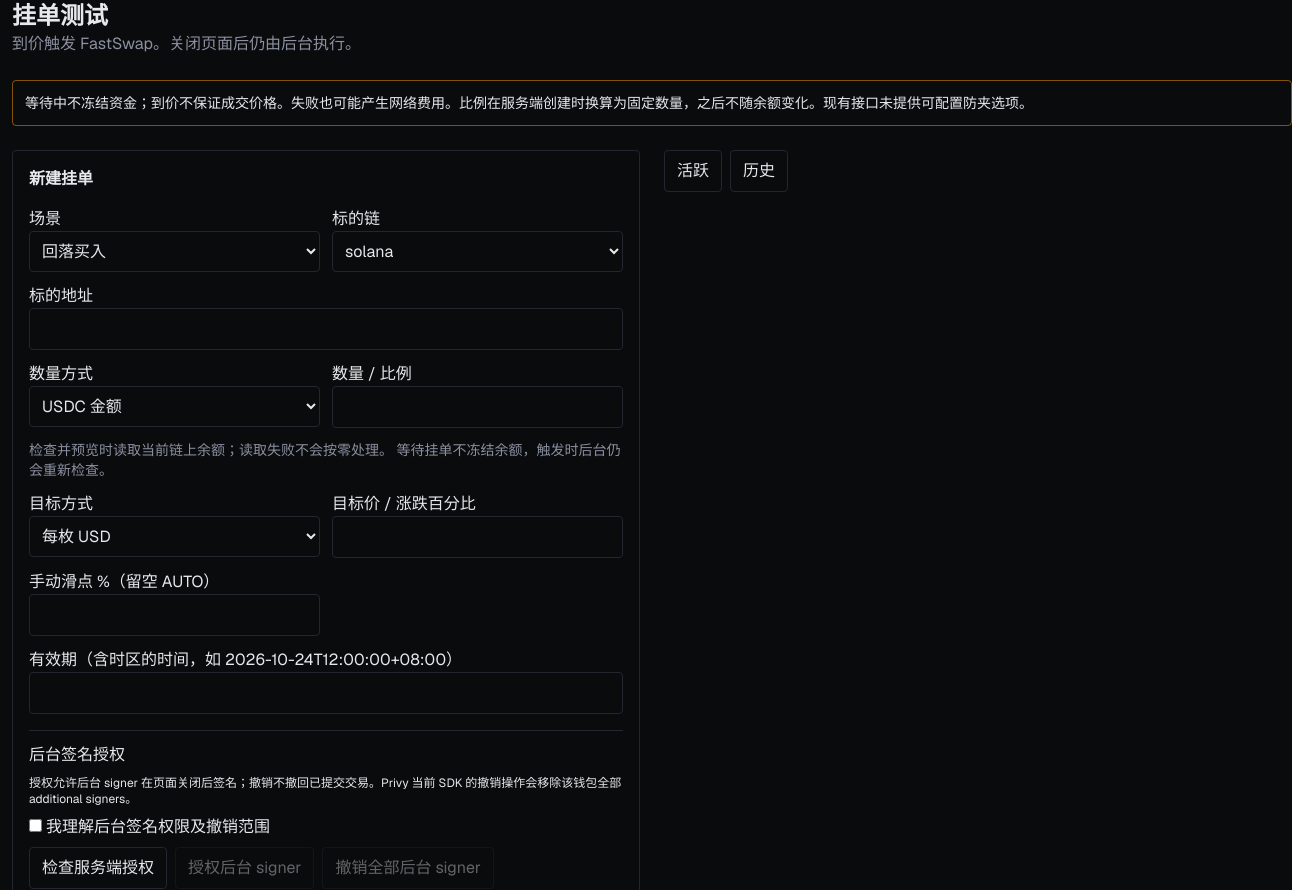
Test: checks the single order against raw balance: unavailable
The width and height of the screenshot is (1292, 890).
Step 1. Type "So11111111111111111111111111111111111111112" into the field labelled "标的地址" → (326, 329), box [29, 308, 623, 350]
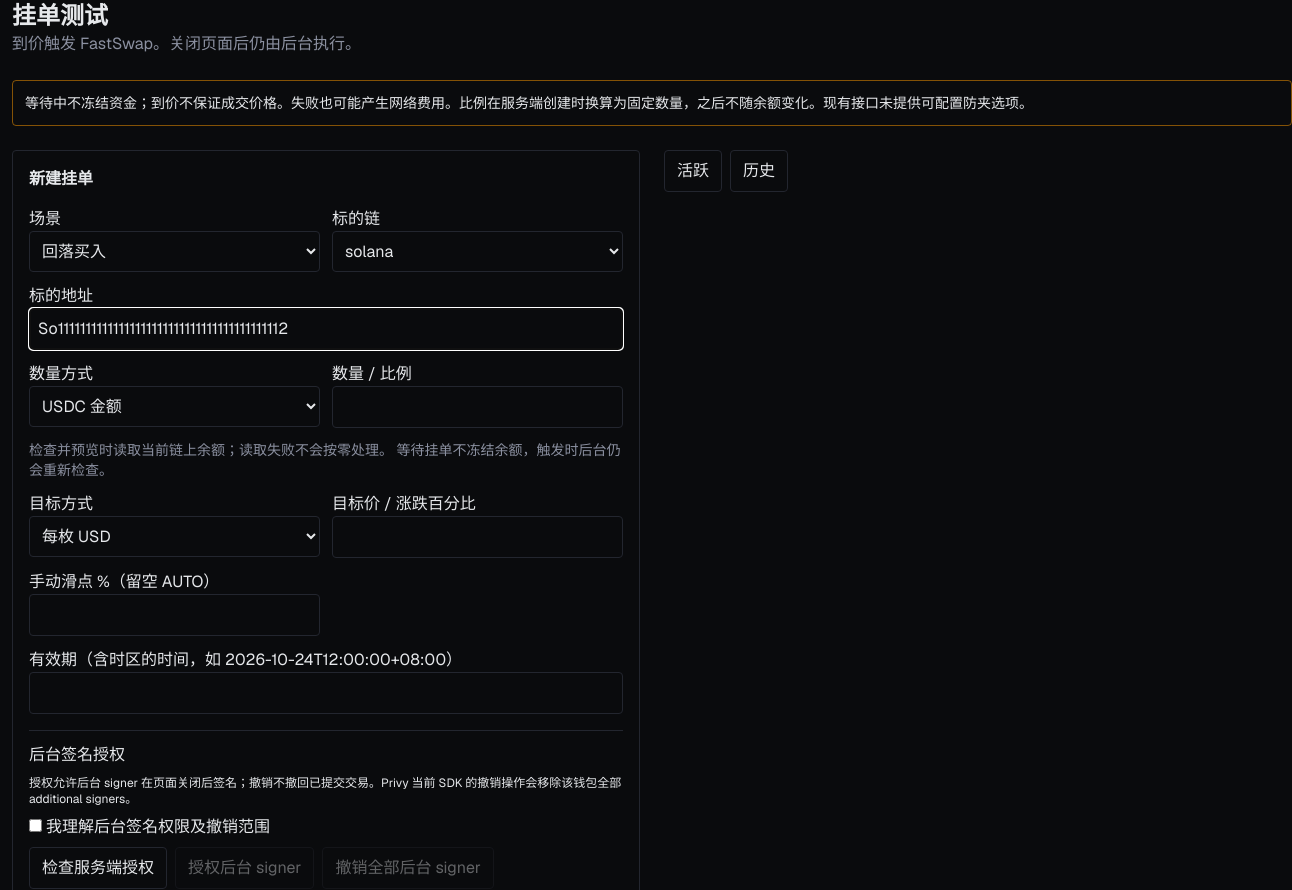
Step 2. Type "1" into the field labelled "数量 / 比例" → (478, 407), box [332, 386, 623, 428]
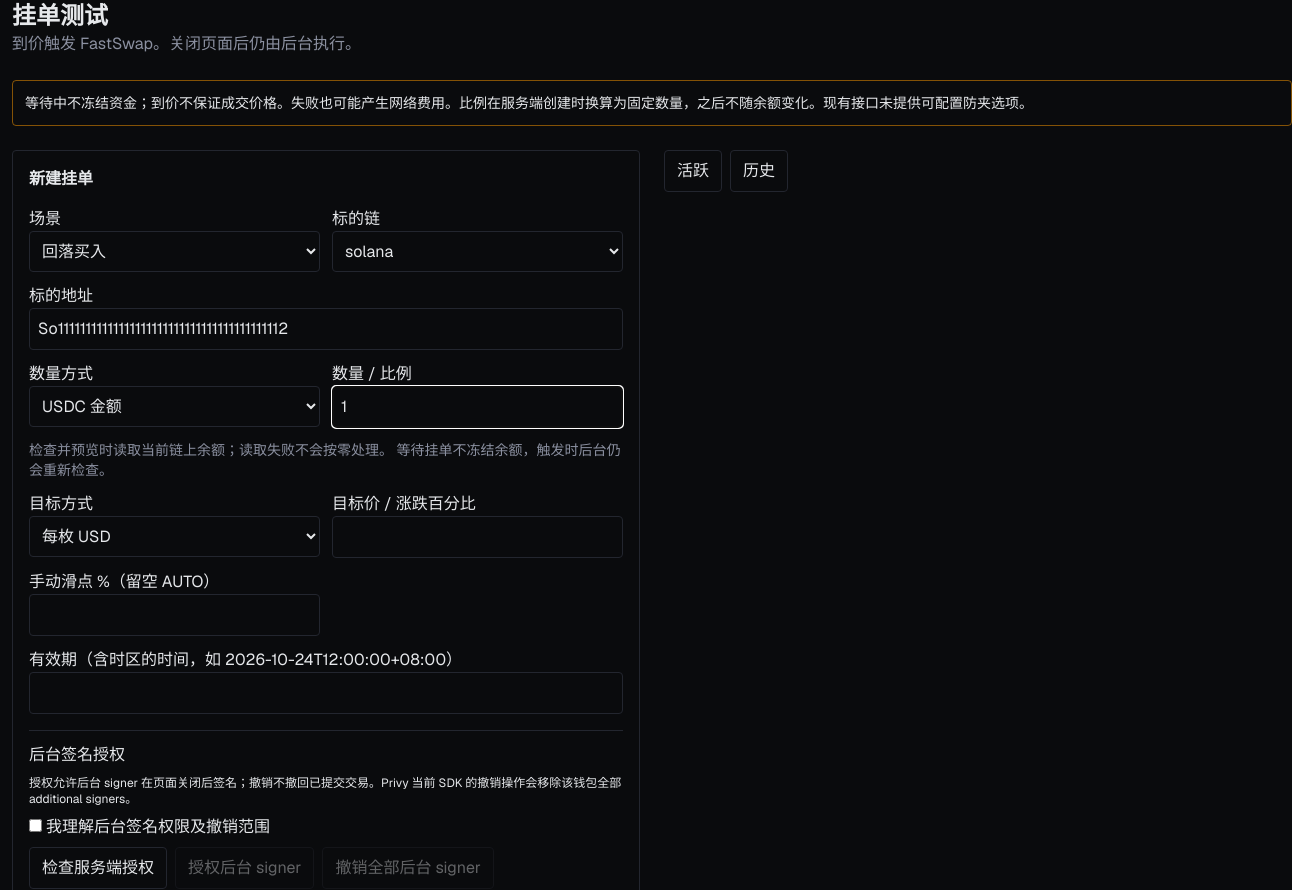
Step 3. Type "2" into the field labelled "目标价 / 涨跌百分比" → (478, 537), box [332, 516, 623, 558]
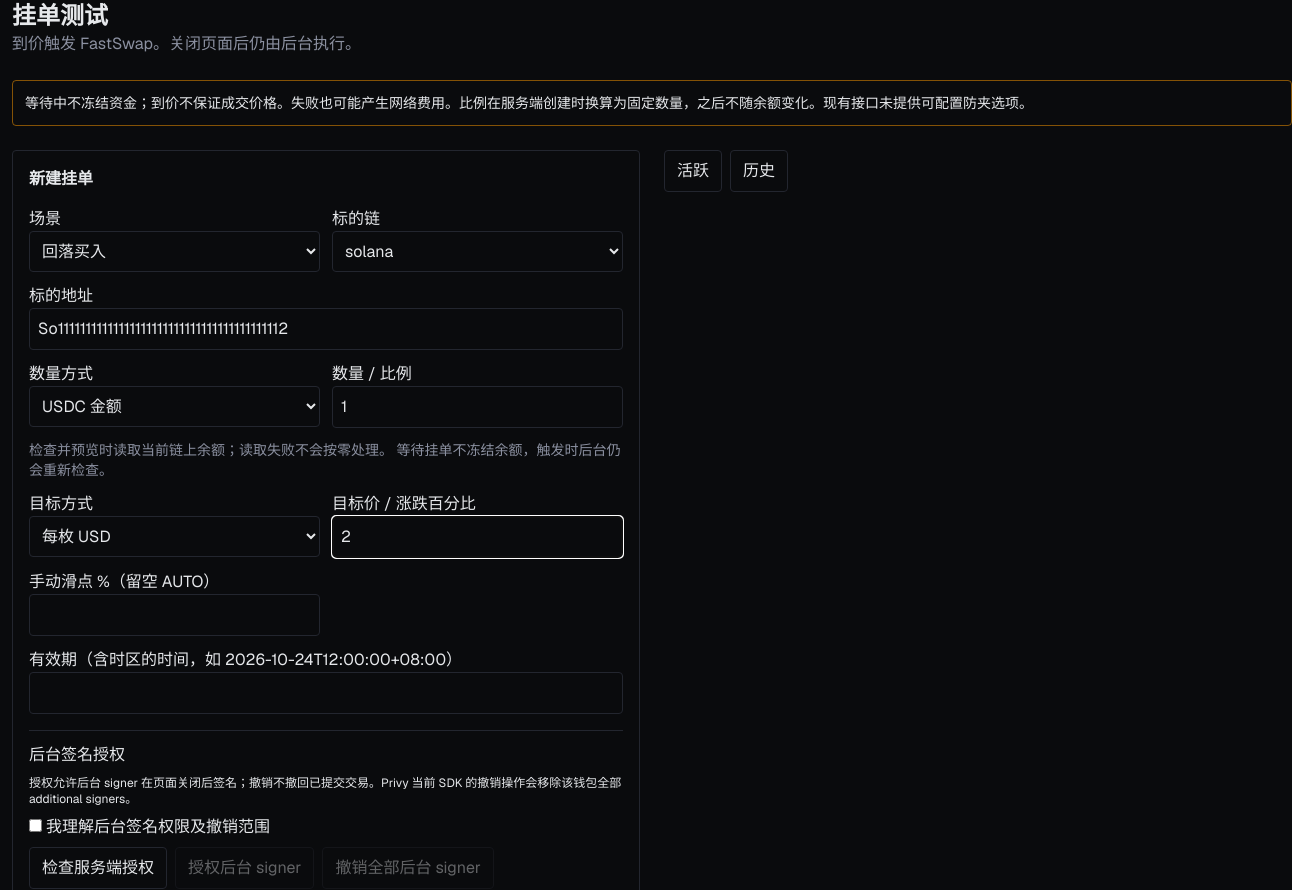
Step 4. Type "2030-01-01T00:00:00Z" into the field labelled "有效期（含时区的时间，如 2026-10-24T12:00:00+08:00）" → (326, 693), box [29, 672, 623, 714]
(page scrolled)
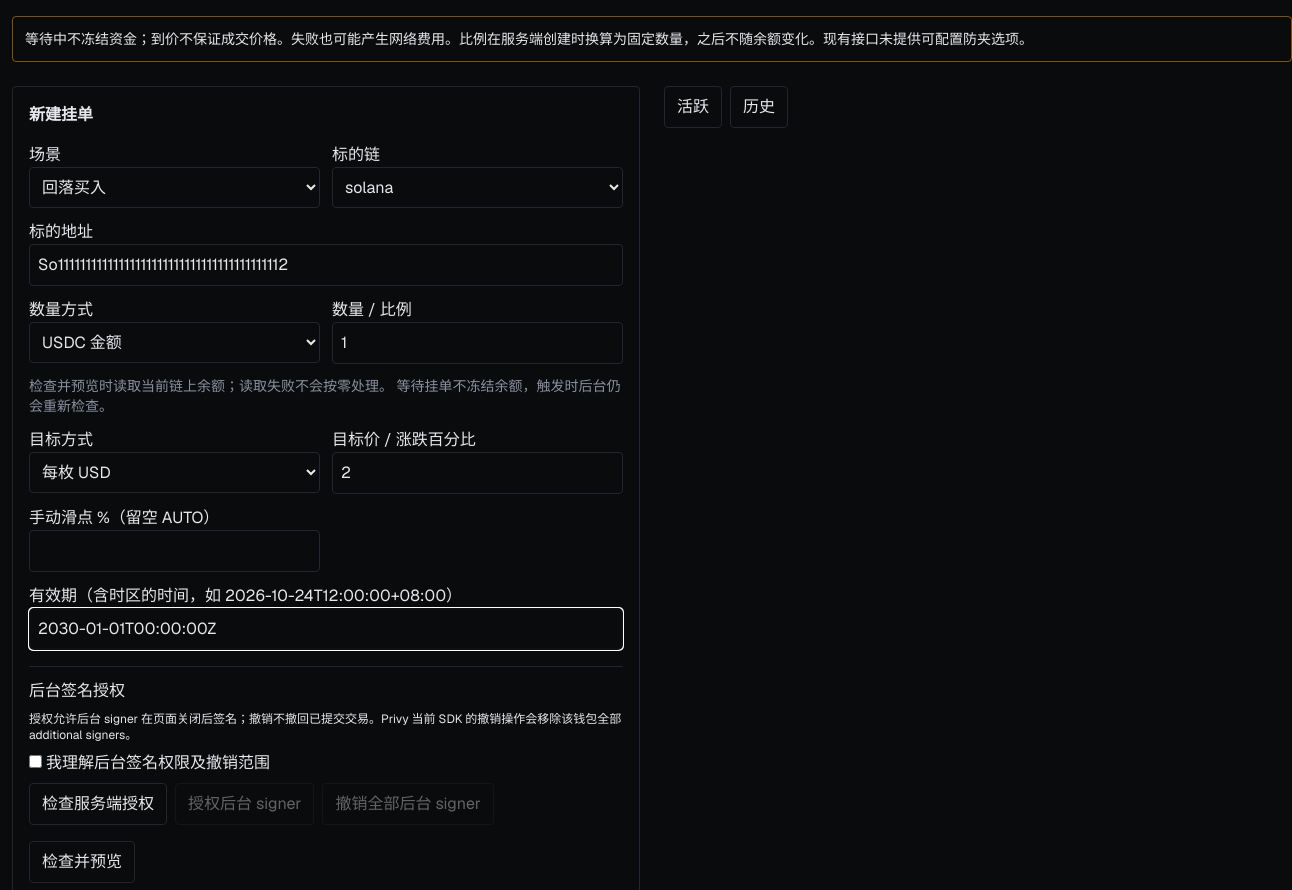
Step 5. Click the button "检查并预览" → (82, 862), box [29, 841, 135, 883]
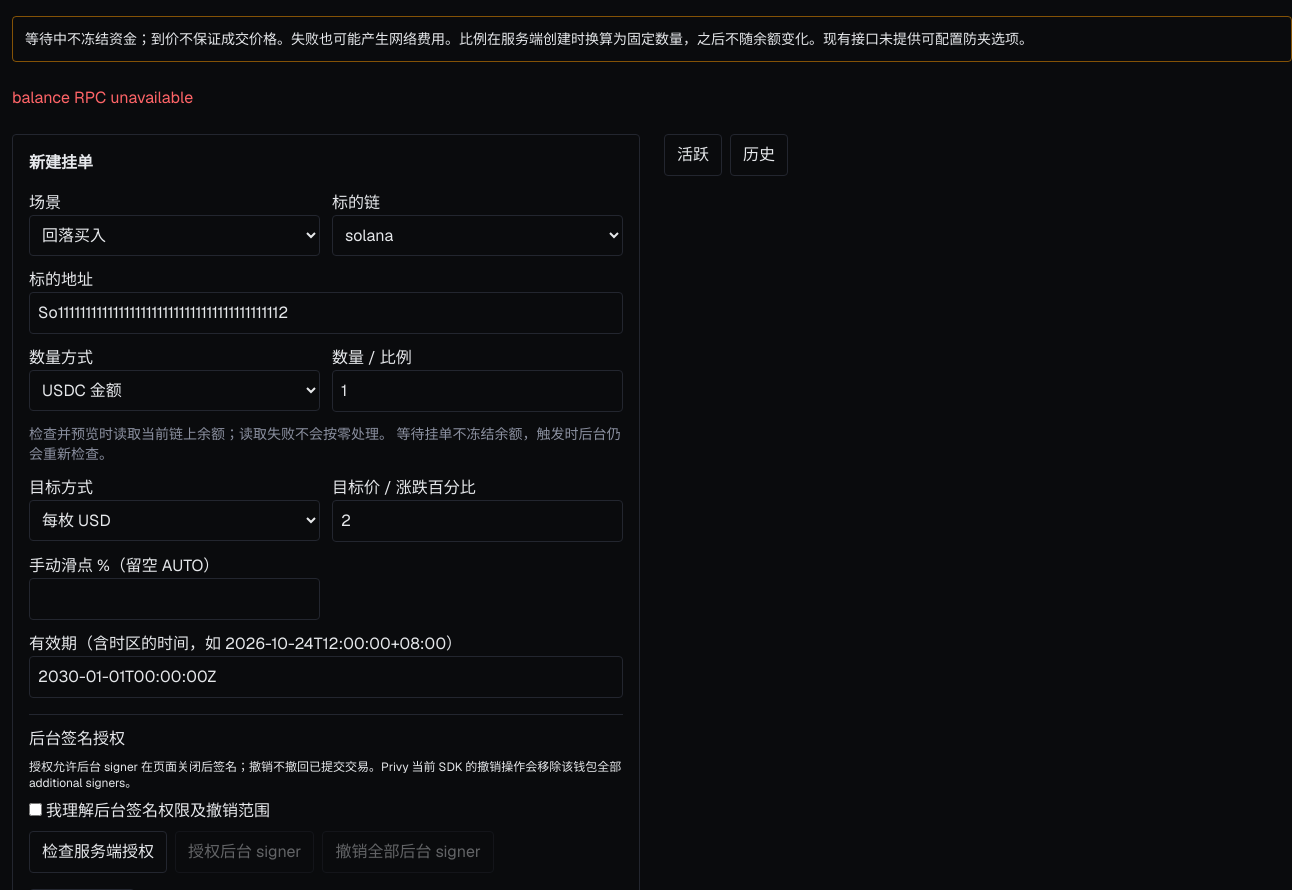
Check: the message reads "balance RPC unavailable", box [12, 87, 193, 108]
